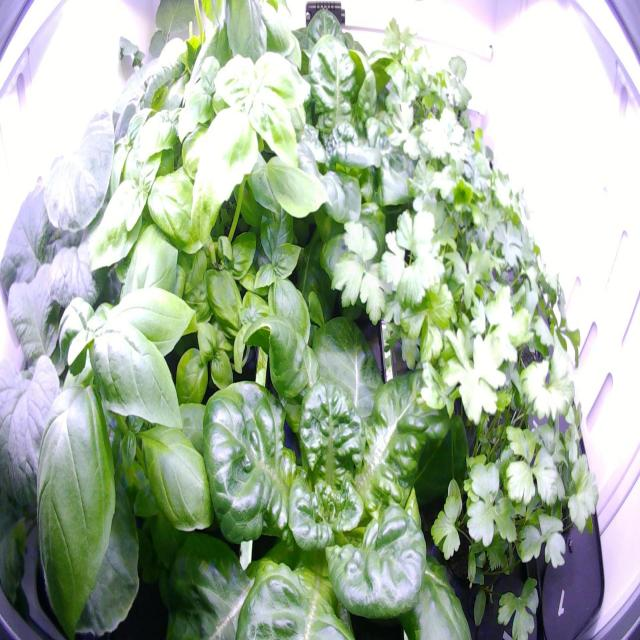Ready: (138, 256, 485, 640), (232, 22, 439, 306)
